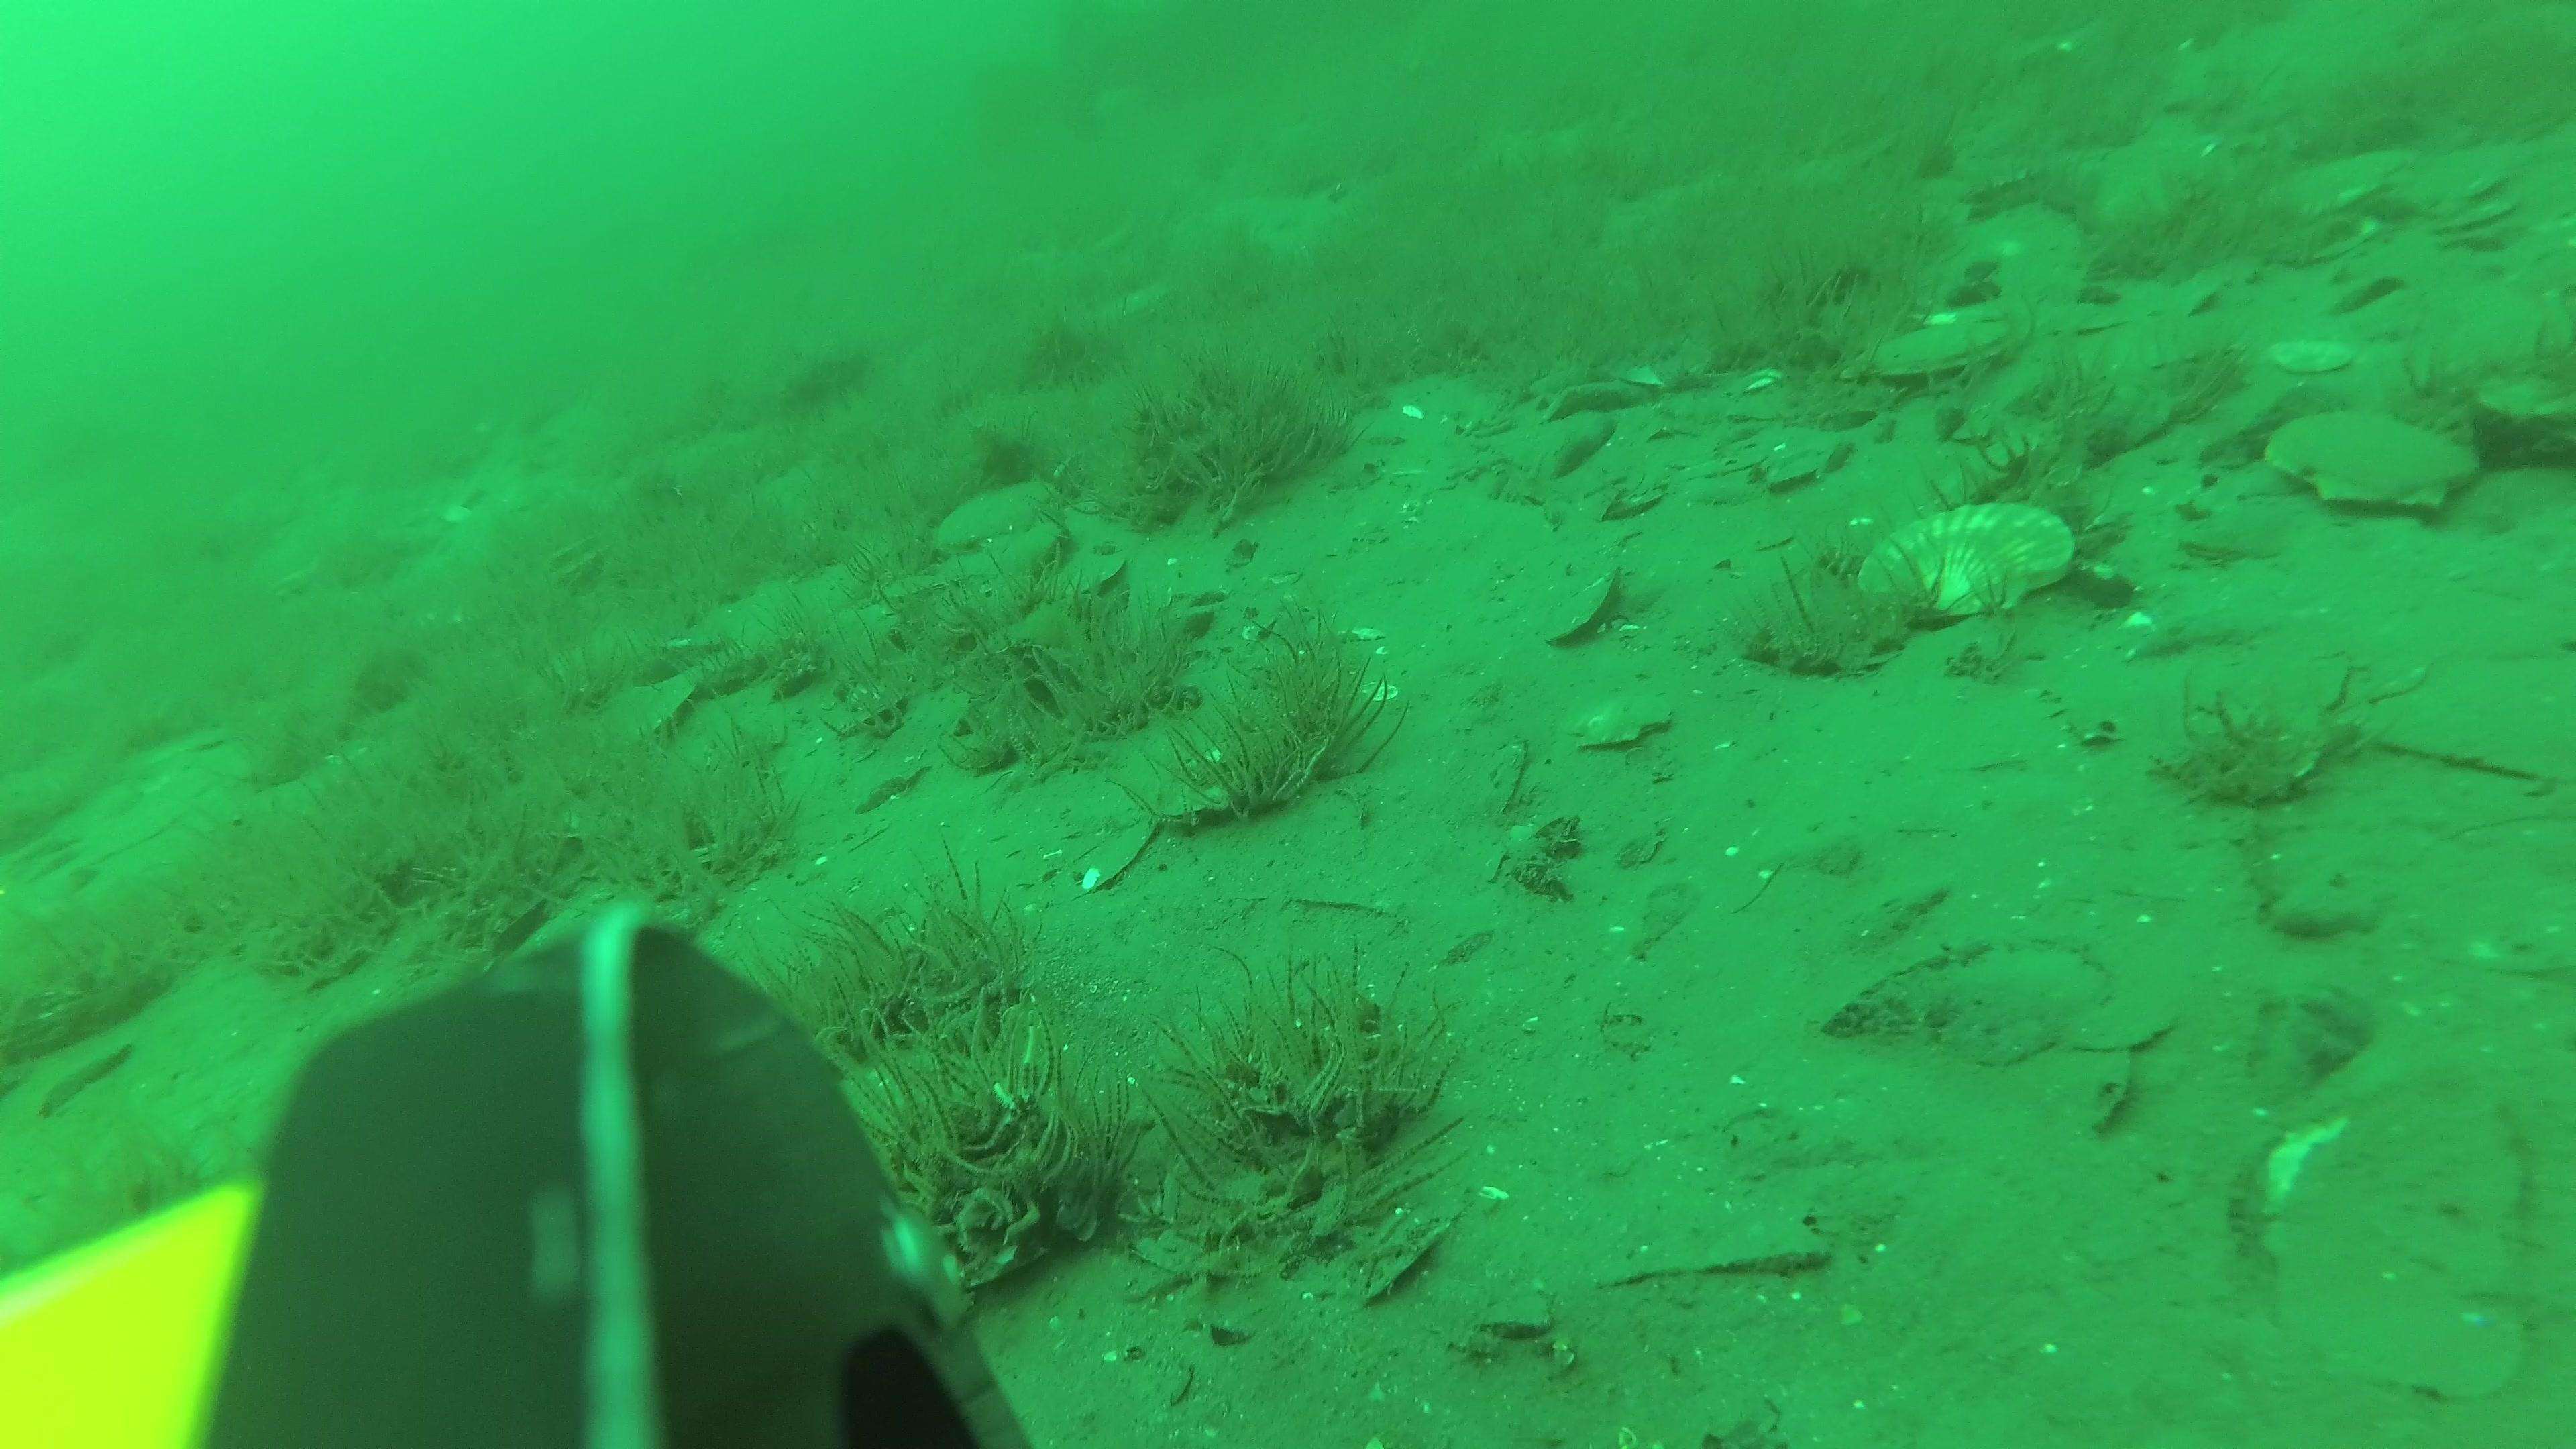scallop: (1849, 492, 2082, 630), (2259, 398, 2493, 518), (1845, 311, 2031, 387), (2270, 142, 2411, 226), (932, 474, 1074, 557), (2104, 322, 2238, 407), (1559, 683, 1683, 757), (1532, 570, 1628, 653), (2422, 189, 2528, 260), (1736, 441, 1854, 495), (1150, 773, 1233, 839), (1040, 547, 1131, 602), (2263, 336, 2364, 384), (2040, 299, 2118, 354), (996, 525, 1060, 582), (1594, 488, 1679, 524)
